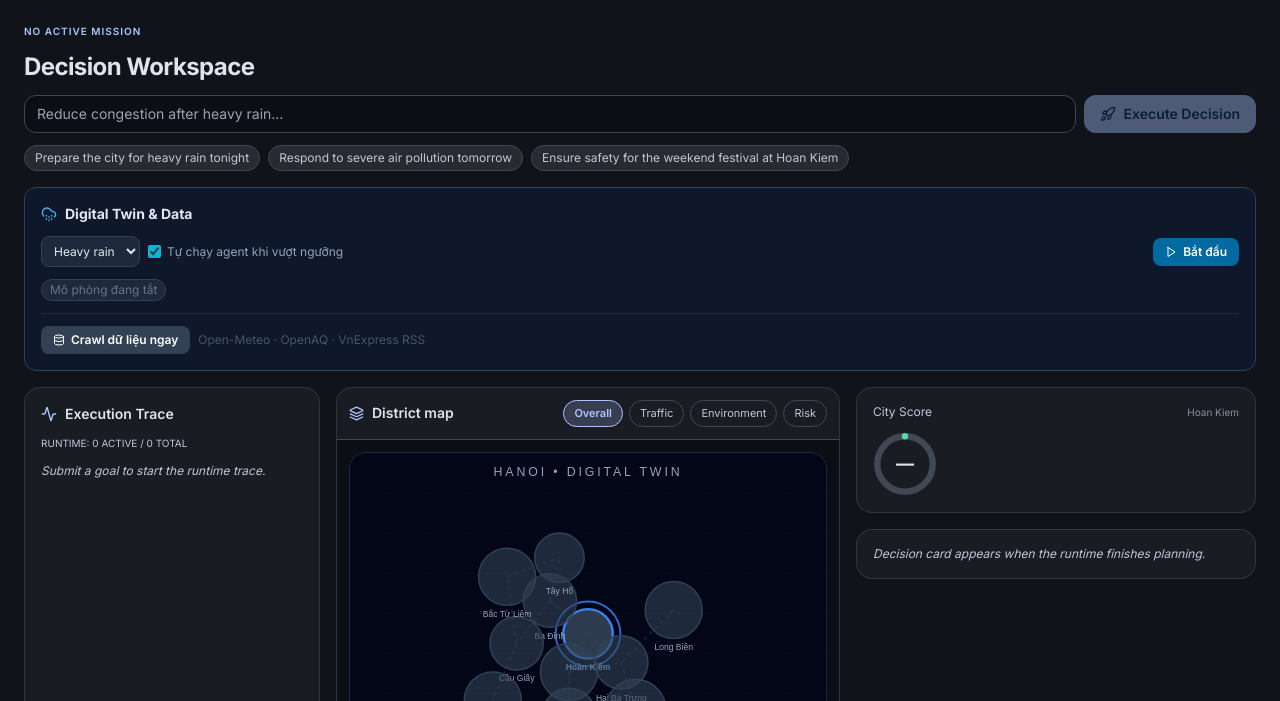
Test: DecisionWorkspacePage › renders critic notes and reflection notes when present on the run
Type "Reduce congestion after rain" into the field with placeholder "Reduce congestion after heavy rain…" at (550, 114), box x1=24 y1=95 x2=1076 y2=133
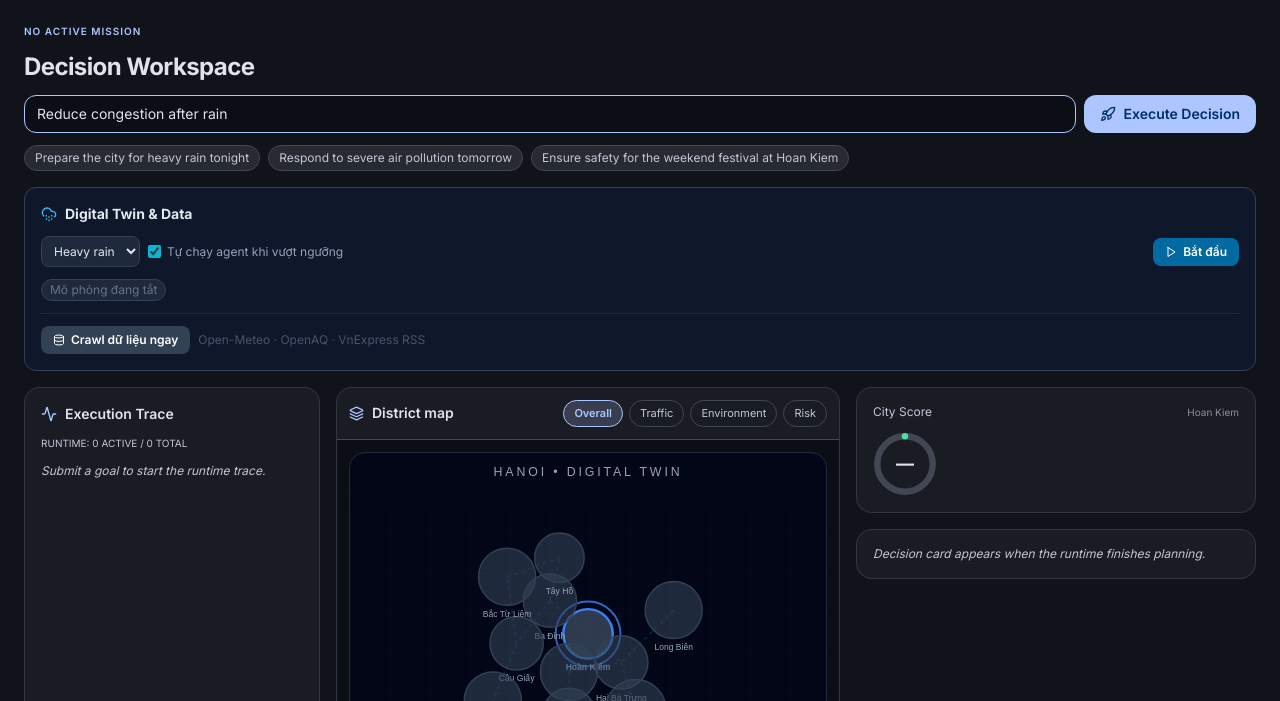
Click the button "Execute Decision" at (1170, 114), box x1=1084 y1=95 x2=1256 y2=133
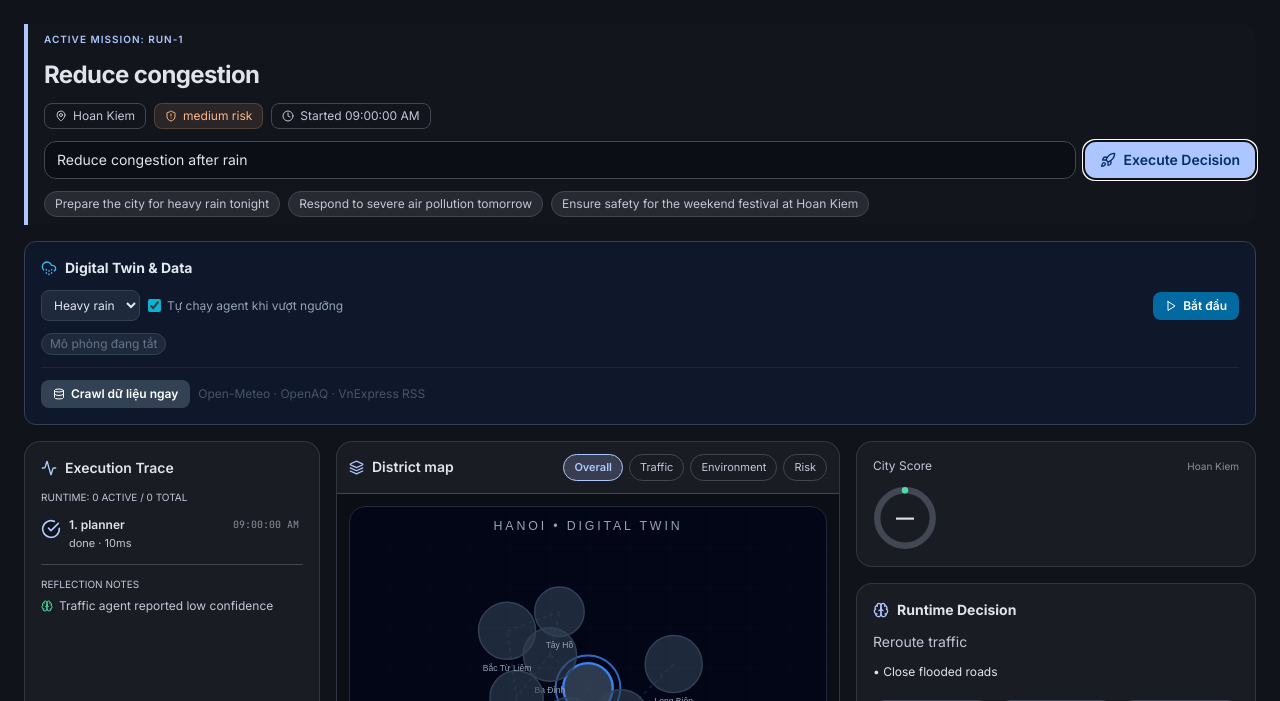
Check: the element with test id "decision-reflection-notes" is shown, box x1=41 y1=564 x2=303 y2=614
Check: the list item "Traffic agent reported low confidence" is shown, box x1=41 y1=598 x2=303 y2=614
